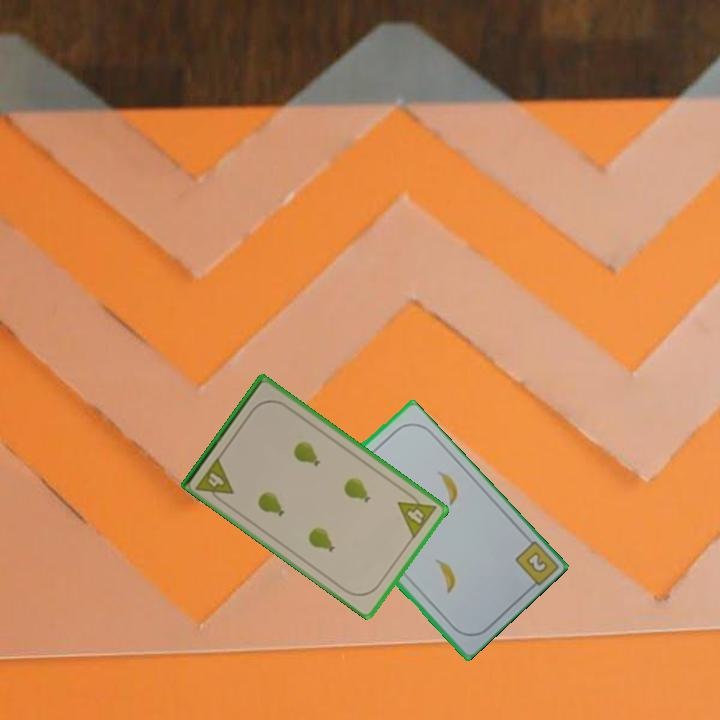2b: (522, 548, 550, 576)
4p: (394, 487, 439, 541), (192, 453, 237, 507)
